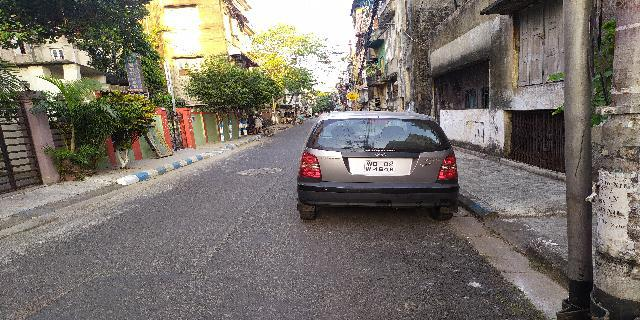Car: (293, 106, 464, 227)
